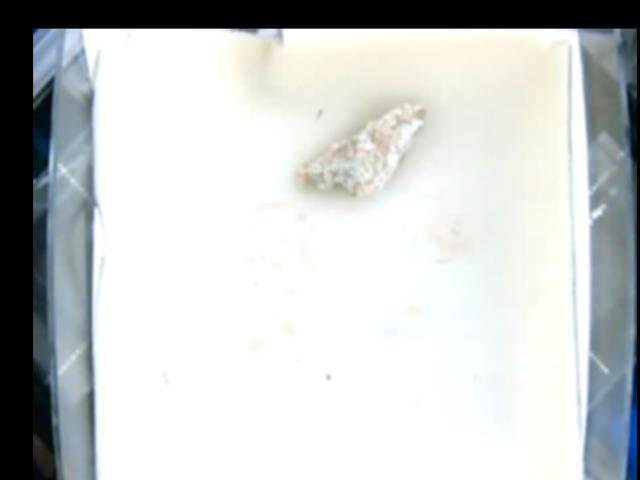Brisk: (296, 97, 430, 195)
